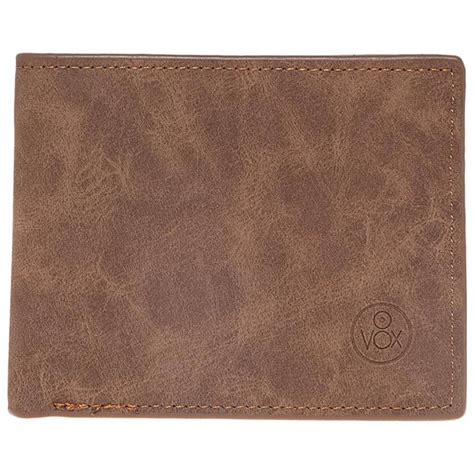gamuza: (8, 50, 464, 420)
